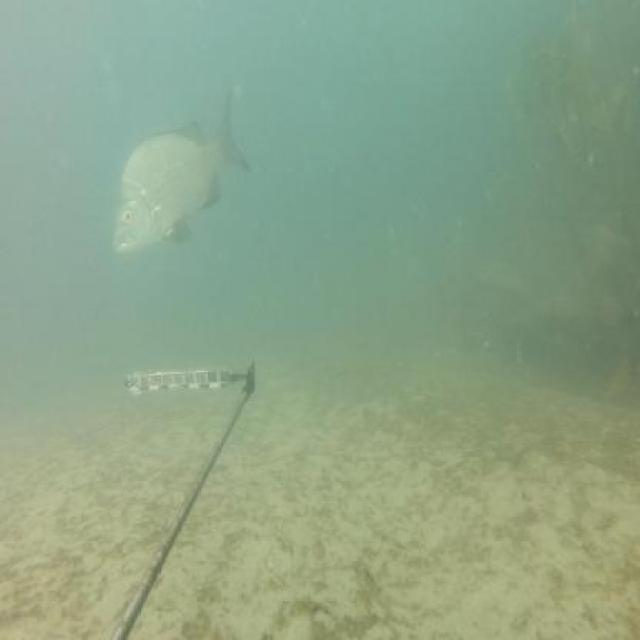acanthopagrus_palmaris: (110, 81, 256, 262)
